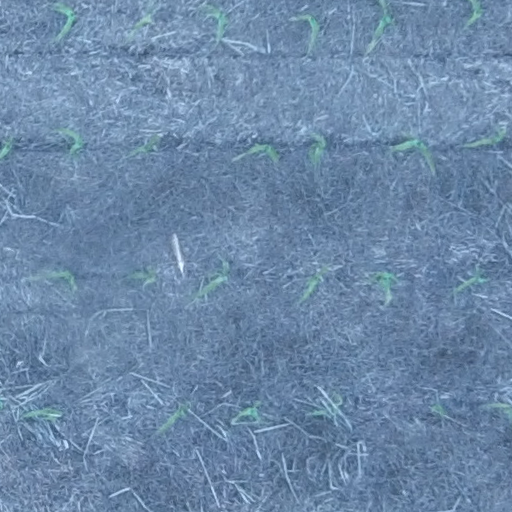planta: (189, 254, 229, 301), (392, 136, 435, 173), (462, 123, 507, 149), (199, 4, 227, 45), (299, 263, 330, 300), (365, 269, 395, 304), (453, 267, 490, 293), (294, 13, 319, 51), (52, 2, 76, 39), (54, 126, 84, 155), (305, 129, 328, 164), (129, 131, 161, 156), (43, 269, 75, 294), (160, 403, 188, 431), (244, 141, 280, 161), (234, 399, 262, 422), (21, 406, 61, 422), (127, 267, 157, 284), (429, 403, 445, 417)
